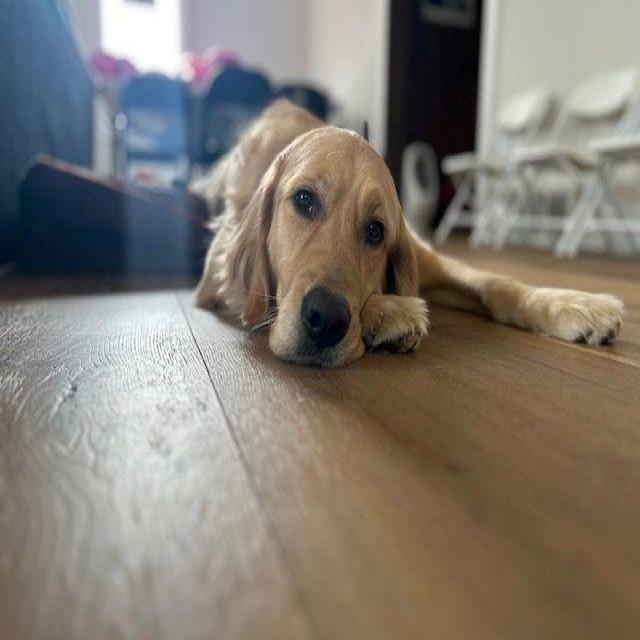golden_retriever_dog: (208, 115, 436, 399)
